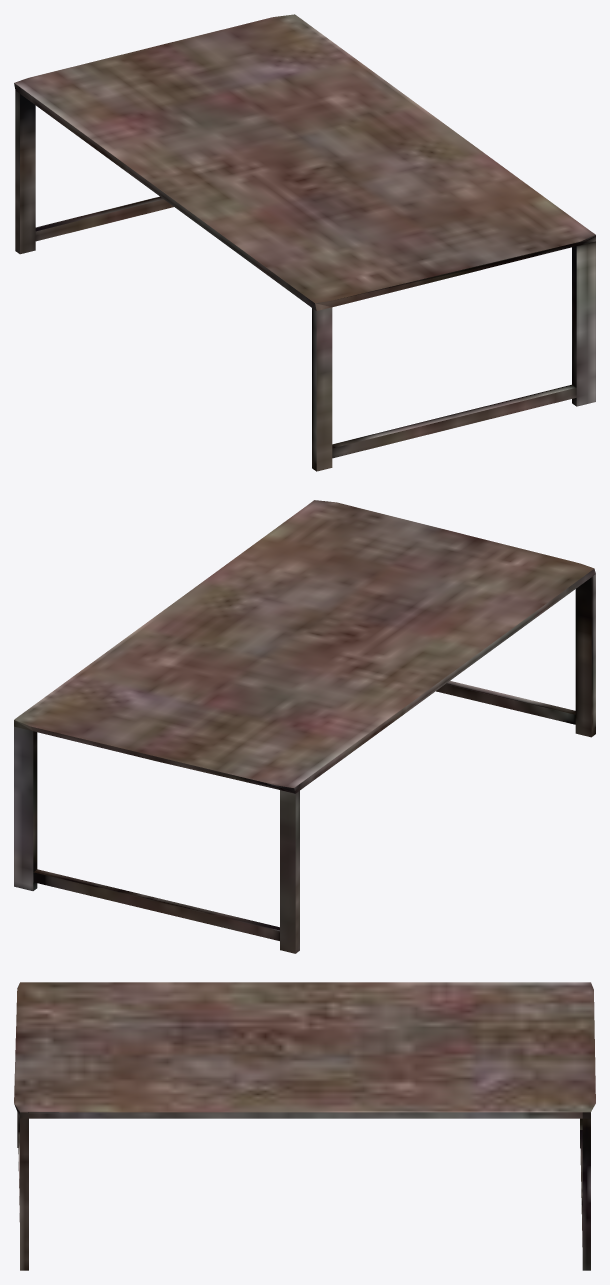
File: table.fbx
3 views of the same model, one above another, from view 1: azimuth 30°, elevation 25°; view 2: azimuth 150°, elevation 25°; view 3: azimuth 270°, elevation 25° (orthographic). The views are drawn at different scales.
Parts seen in each view (by area): view 1: table; view 2: table; view 3: table.
Part boxes in pixels (bbox=[...]): table: bbox=[14, 14, 595, 471]; table: bbox=[14, 500, 595, 953]; table: bbox=[14, 982, 595, 1270].
Bounding box in the file's own units: 343 × 195 × 649.
